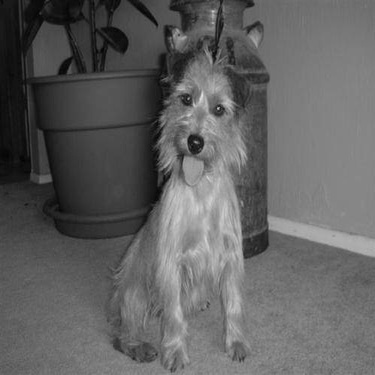dog: (100, 27, 260, 373)
